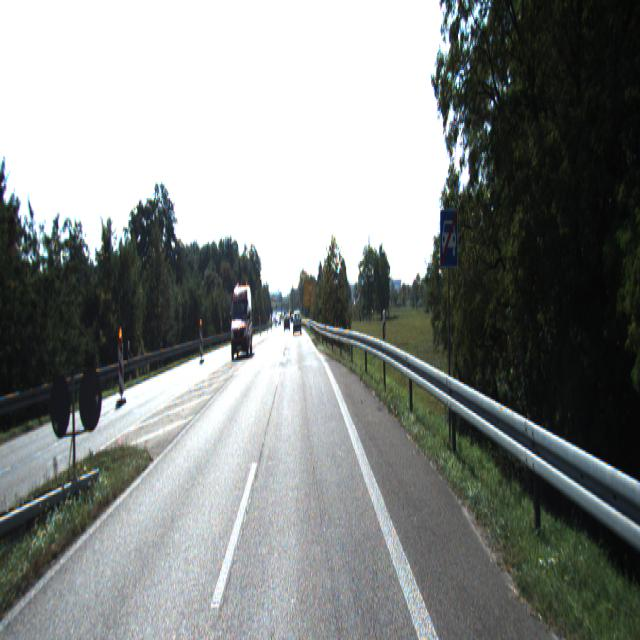Car: (230, 284, 252, 363), (292, 310, 302, 332)
